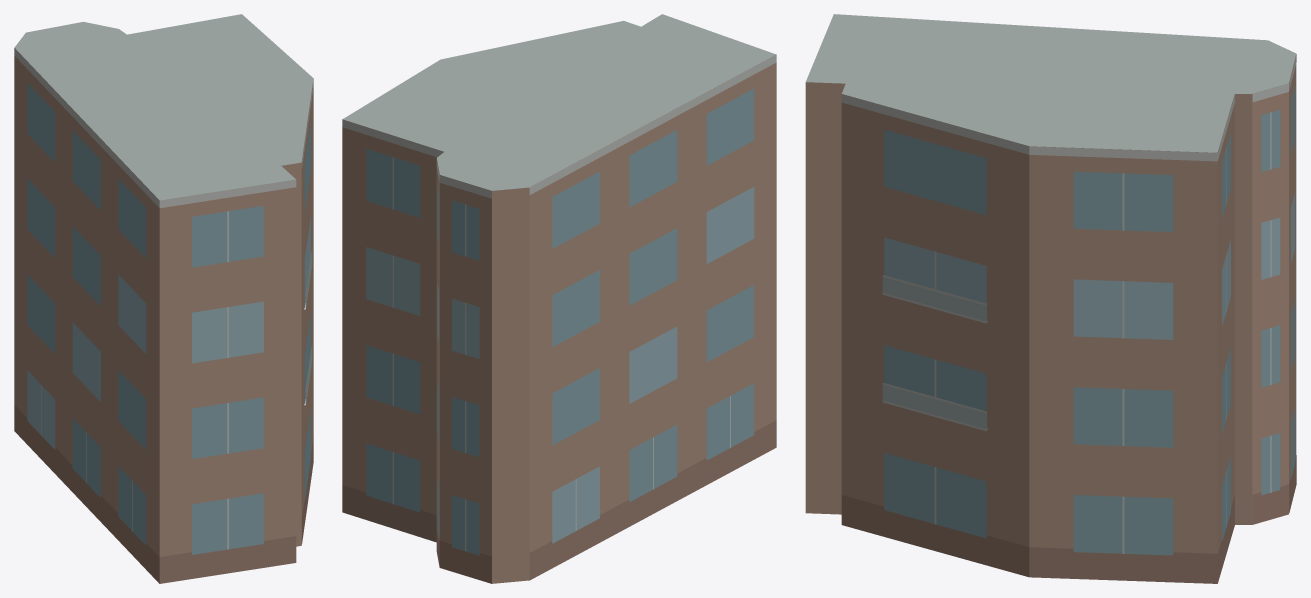
Rendered from survey-upis-32970112.glb.
The picture shows the model from 3 angles, left to right: view 1: azimuth 30°, elevation 25°; view 2: azimuth 150°, elevation 25°; view 3: azimuth 270°, elevation 25°; orthographic projection. The views are drawn at different scales.
Visible parts, largest first — view 1: survey-upis-32970112.tmp; view 2: survey-upis-32970112.tmp; view 3: survey-upis-32970112.tmp.
Boxes of the visible parts, x1,y1,x2,y2 form: survey-upis-32970112.tmp: (14, 14, 313, 583); survey-upis-32970112.tmp: (342, 14, 776, 583); survey-upis-32970112.tmp: (805, 14, 1296, 583).
Size of the model in its own units: 8.4 by 12.15 by 12.55.
